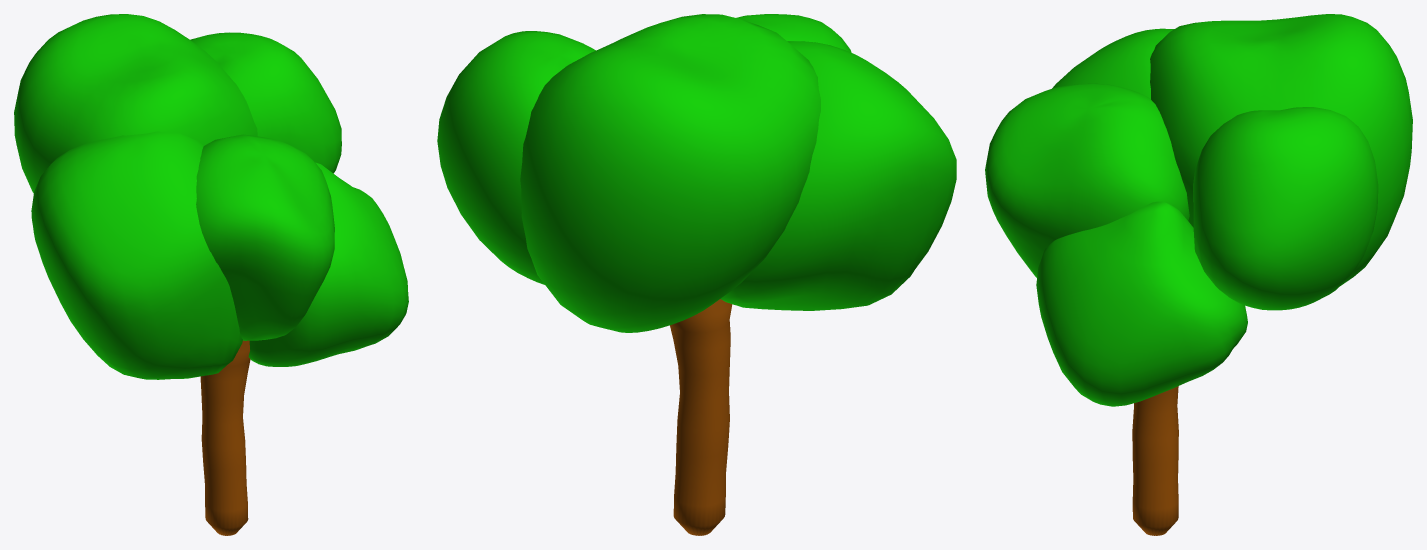
Rendered from tree2.fbx.
The picture shows the model from 3 angles, left to right: view 1: azimuth 30°, elevation 25°; view 2: azimuth 150°, elevation 25°; view 3: azimuth 270°, elevation 25°; orthographic projection. The views are drawn at different scales.
Parts seen in each view (by area): view 1: agacseysiistesuanadıaklimagelmiyor, govde; view 2: agacseysiistesuanadıaklimagelmiyor, govde; view 3: agacseysiistesuanadıaklimagelmiyor, govde.
Boxes of the visible parts, x1=… form: agacseysiistesuanadıaklimagelmiyor: x1=14, y1=14, x2=408, y2=379; govde: x1=200, y1=340, x2=250, y2=535; agacseysiistesuanadıaklimagelmiyor: x1=437, y1=14, x2=956, y2=332; govde: x1=670, y1=299, x2=732, y2=535; agacseysiistesuanadıaklimagelmiyor: x1=985, y1=14, x2=1412, y2=406; govde: x1=1132, y1=386, x2=1178, y2=535.
Size of the model in its own units: 419 by 524 by 418.
Materials: 2 (2 with a texture image).
